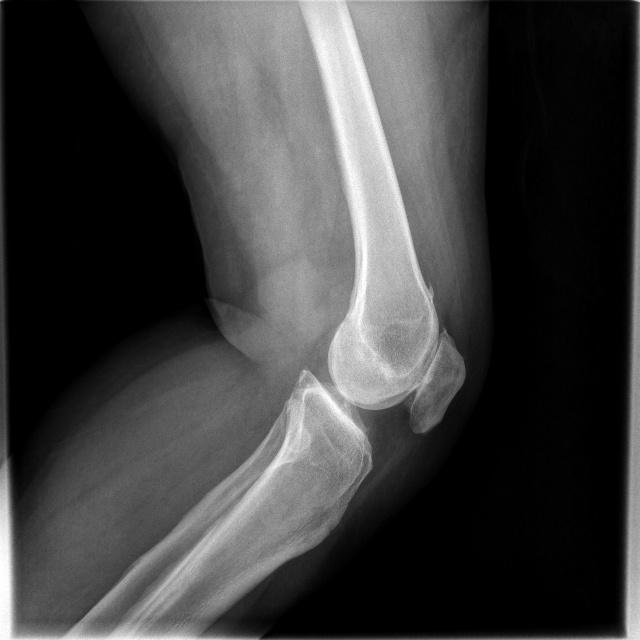Knee: (282, 290, 469, 485)
